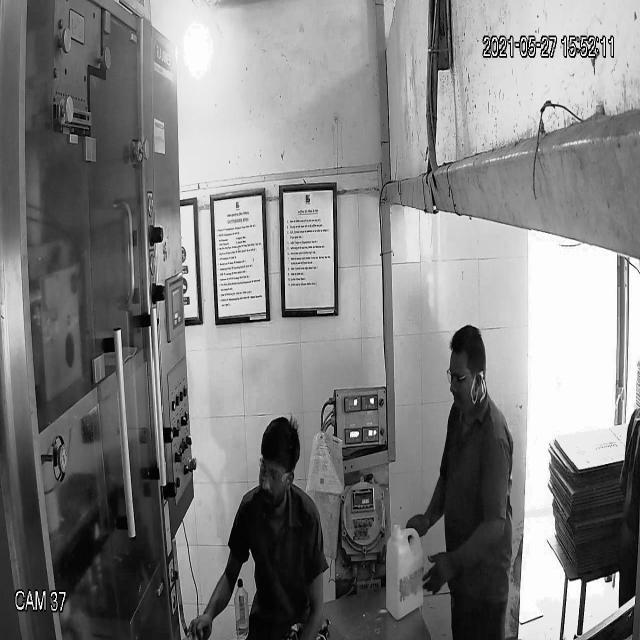glasses: (255, 452, 295, 487), (444, 366, 484, 392)
